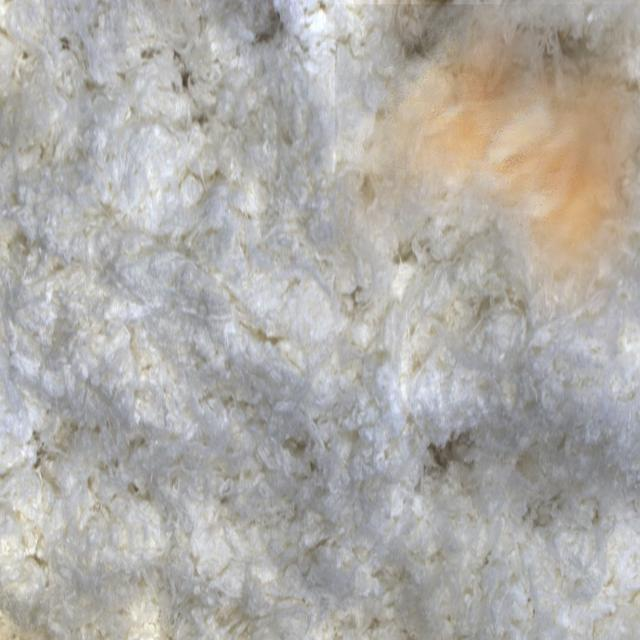dust: (335, 4, 640, 318)
